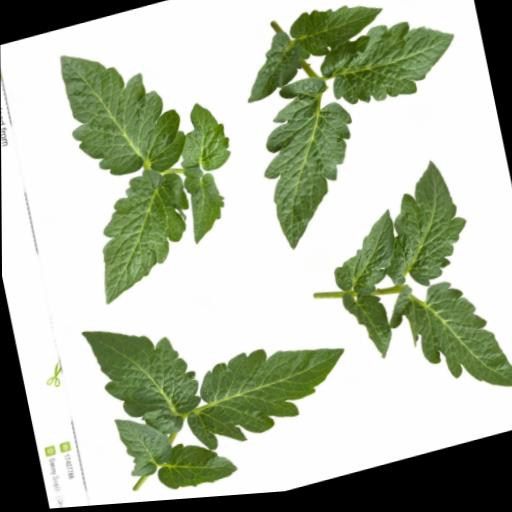Healthy: (245, 72, 375, 259), (175, 331, 358, 461), (54, 28, 190, 196), (383, 272, 512, 427), (79, 306, 207, 456), (81, 161, 203, 308), (314, 12, 464, 123), (366, 159, 477, 304), (322, 214, 405, 310), (286, 0, 388, 68), (235, 31, 316, 109), (150, 433, 238, 500), (168, 99, 235, 182), (112, 407, 177, 485), (339, 290, 396, 374), (180, 163, 232, 250)
